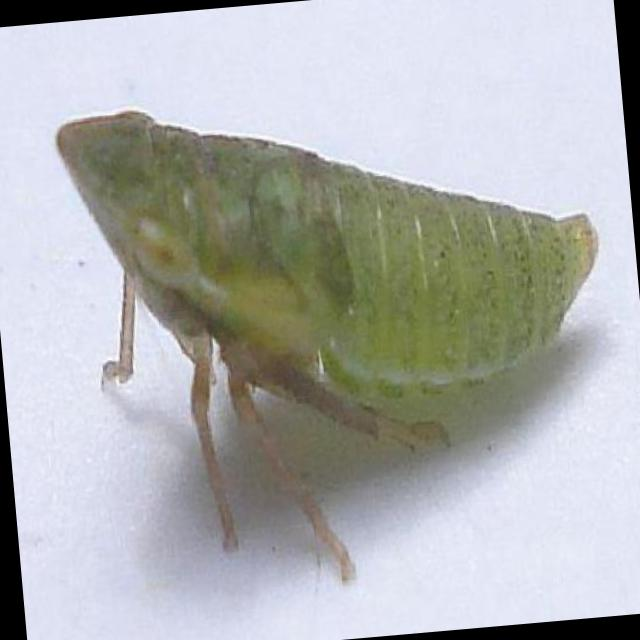green-leafhopper: (54, 112, 604, 581)
